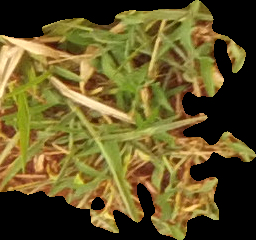grass: (1, 1, 255, 239)
